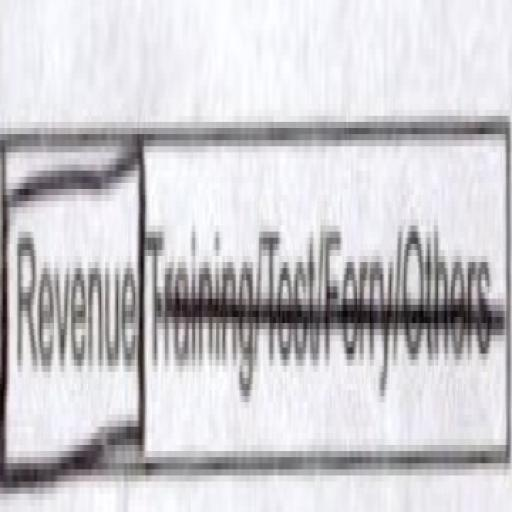check: (0, 49, 153, 512)
